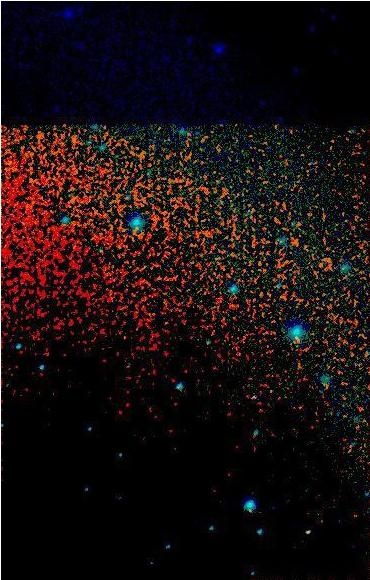star: (282, 324, 312, 354)
